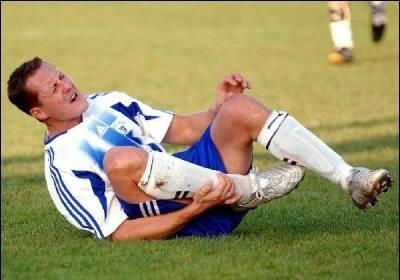falling: (14, 36, 384, 245)
